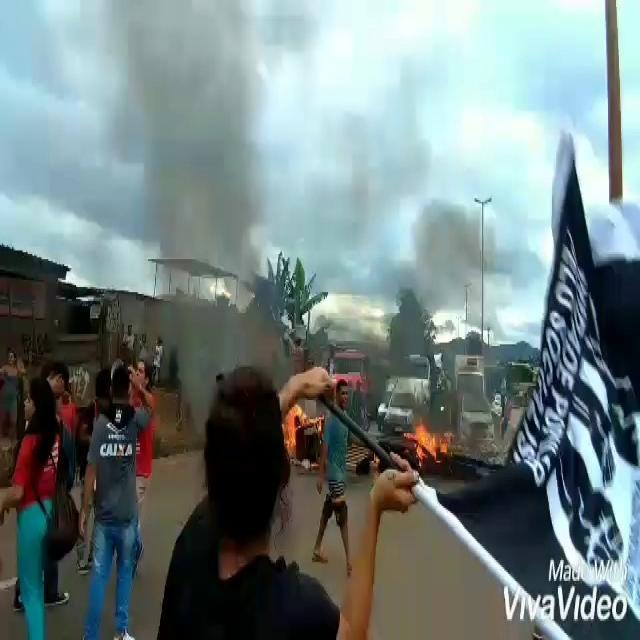Fire: (410, 414, 442, 472), (282, 401, 310, 463)
Smoke: (66, 5, 302, 374), (371, 156, 515, 332)
